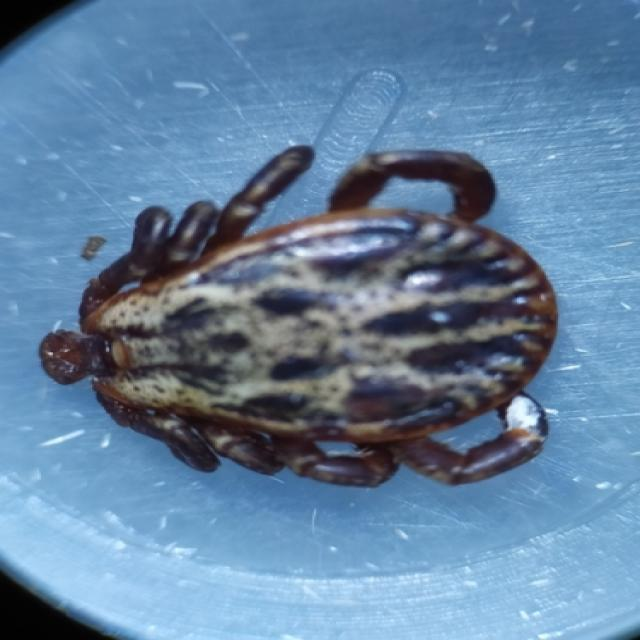Dermacentor Reticulatus-M: (41, 146, 558, 490)
